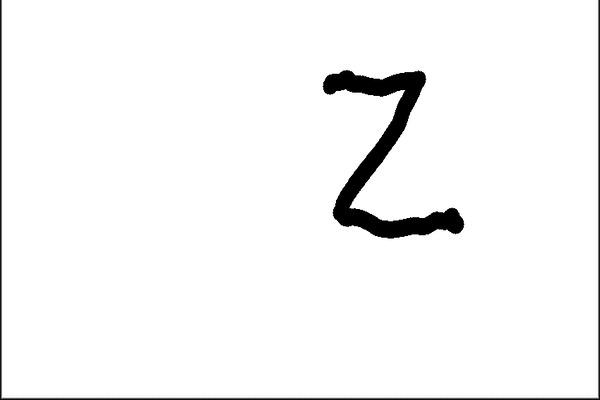Z: (302, 59, 475, 247)
